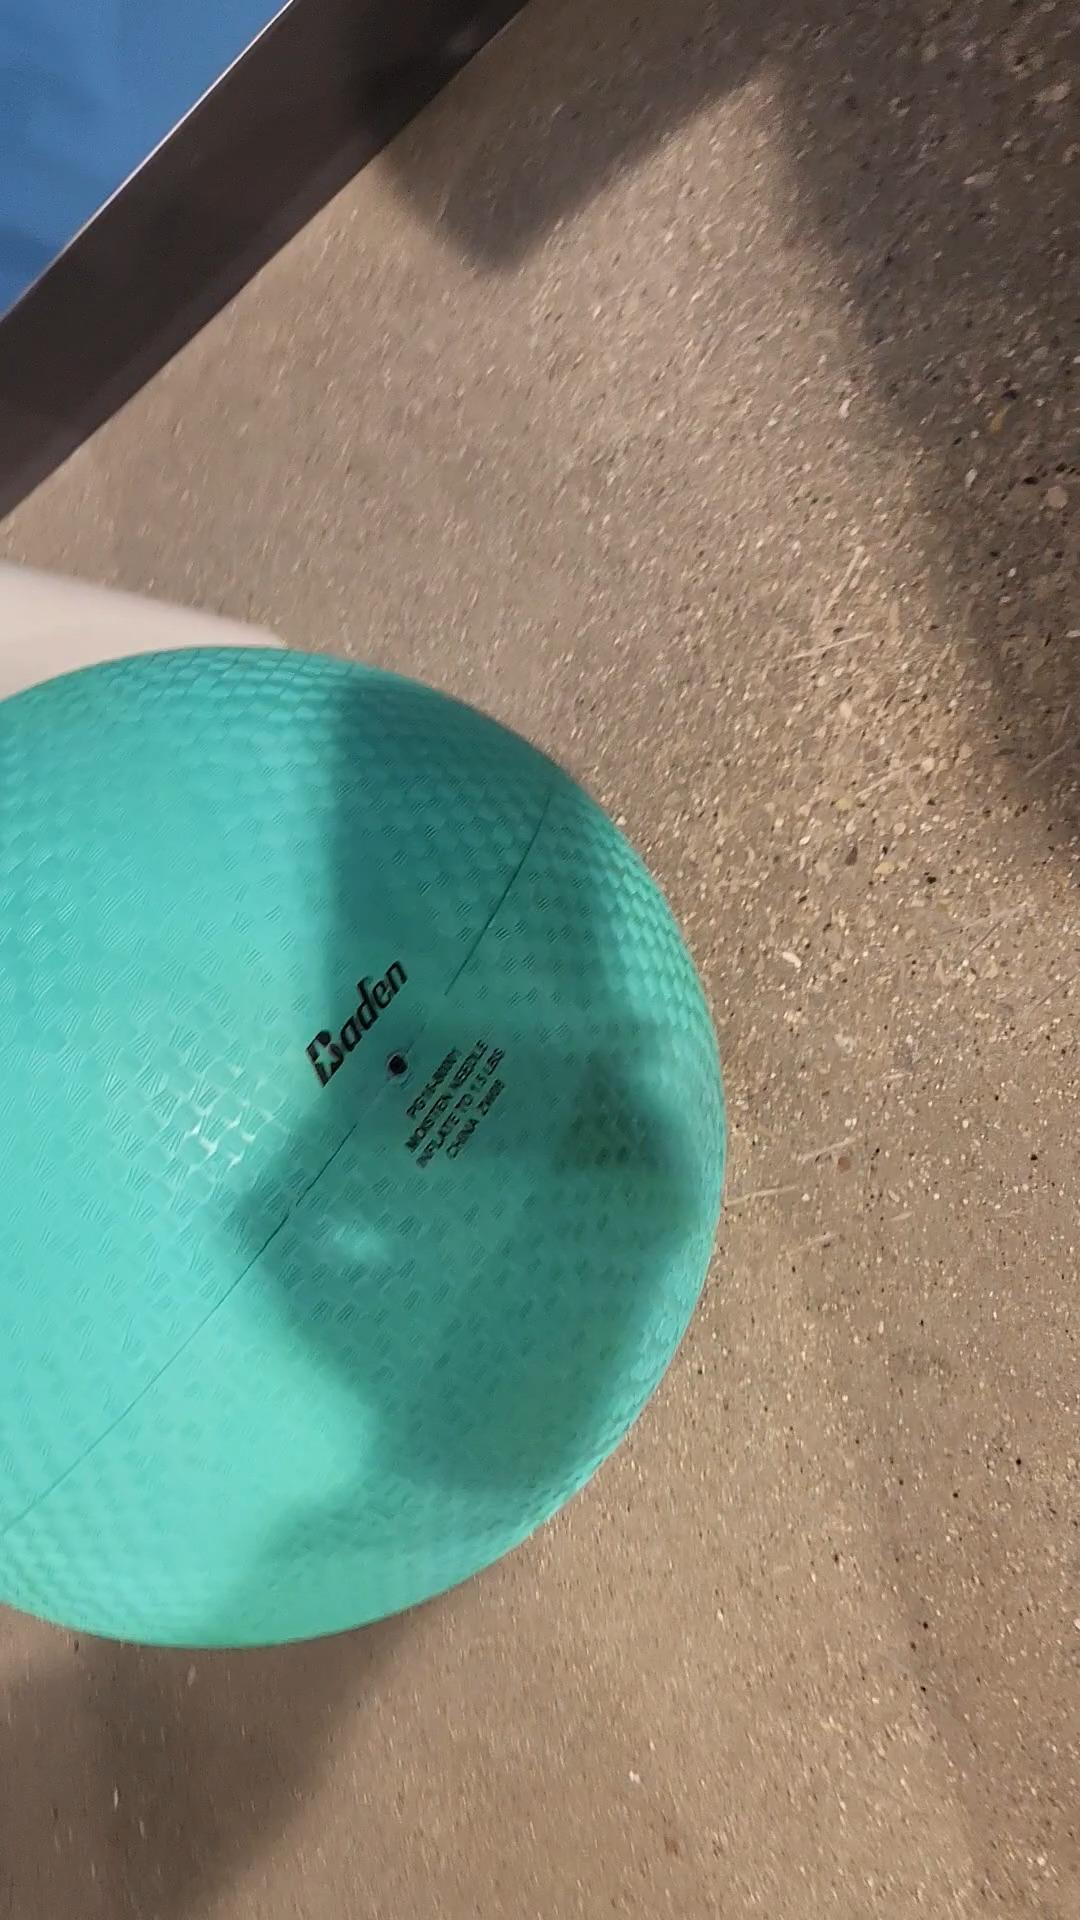algae: (0, 654, 733, 1654)
